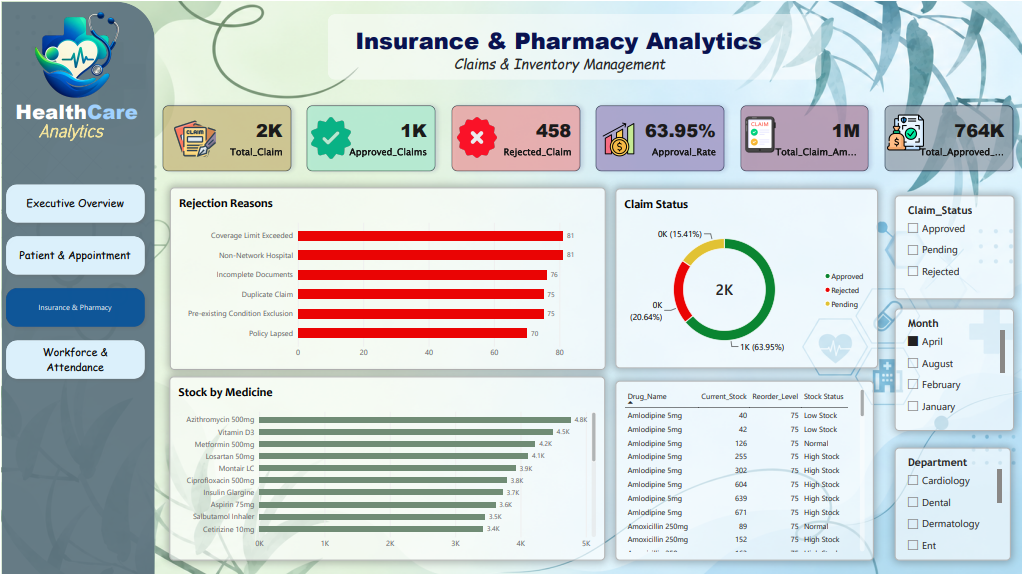

The dashboard page shown, as its layout file describes it:
{"tool":"powerbi","page":{"name":"Insurance & Pharmacy","canvas":[1920,1080],"ordinal":2},"visuals":[{"type":"shape","box":[614,22.7,929.7,123.8],"z":0},{"type":"cardVisual","fields":{"Data":["Insurance_Claims.Total_Claim","Insurance_Claims.Approved_Claims","Insurance_Claims.Rejected_Claim","Insurance_Claims.Approval_Rate","Insurance_Claims.Total_Claim_Amount","Insurance_Claims.Total_Approved_Amount"]},"box":[287.8,179.7,1632,154],"z":1000},{"type":"shape","box":[0,0,288,1080],"z":2000},{"type":"barChart","title":"Rejection Reasons","fields":{"Category":["Insurance_Claims.Rejection_Reason"],"Y":["Insurance_Claims.Rejected_Claim"]},"box":[316.7,350,820,343.3],"z":3000},{"type":"donutChart","title":"Claim Status","fields":{"Category":["Insurance_Claims.Claim_Status"],"Y":["Insurance_Claims.Total_Claim"]},"box":[1156,352,494,338],"z":4000},{"type":"textbox","box":[315,650,150,430],"z":5000},{"type":"textbox","box":[666,42,980,84],"z":6000},{"type":"slicer","fields":{"Values":["DateTable.Month"]},"box":[1682,578,224,230],"z":7000},{"type":"slicer","fields":{"Values":["Insurance_Claims.Claim_Status"]},"box":[1681.7,365,225,195],"z":8000},{"type":"textbox","box":[852,98,610,55],"z":9000},{"type":"barChart","title":"Stock by Medicine","fields":{"Category":["Pharmacy_Inventory.Drug_Name"],"Y":["Pharmacy_Inventory.Total_Stock"]},"box":[316,706,820,346],"z":10000},{"type":"image","box":[17.8,8.9,237.8,177.8],"z":11000},{"type":"pageNavigator","box":[0,315.6,277,410],"z":12000},{"type":"textbox","box":[70,223.8,148.9,62.2],"z":13000},{"type":"tableEx","fields":{"Values":["Pharmacy_Inventory.Drug_Name","Pharmacy_Inventory.Current_Stock","Pharmacy_Inventory.Reorder_Level","Pharmacy_Inventory.Stock Status"]},"box":[1156,714,486,338],"z":14000},{"type":"slicer","fields":{"Values":["Raw_Appointments.Department"]},"box":[1682,840,218,212],"z":15000},{"type":"textbox","box":[26.2,178.8,337.3,90.2],"z":16000},{"type":"image","box":[314,219.8,97.7,76.7],"z":17000},{"type":"image","box":[539,216.3,160.5,80.2],"z":18000},{"type":"image","box":[839,211,111.6,89],"z":19000},{"type":"image","box":[1123.3,226.7,75,64.5],"z":20000},{"type":"image","box":[1348.3,214.5,160.5,71.5],"z":21000},{"type":"image","box":[1664,212.8,75,68],"z":22000}]}

Visuals, with their boxes on the page's 1920x1080 design canvas (x1, y1, x2, y2). These are canvas units, not pixel positions in the 1022x574 screenshot, which may show the page scaled, cropped or inside an application window:
shape: x1=614, y1=23, x2=1544, y2=146
cardVisual - Insurance_Claims.Total_Claim x Insurance_Claims.Approved_Claims: x1=288, y1=180, x2=1920, y2=334
shape: x1=0, y1=0, x2=288, y2=1080
"Rejection Reasons" barChart: x1=317, y1=350, x2=1137, y2=693
"Claim Status" donutChart: x1=1156, y1=352, x2=1650, y2=690
textbox: x1=315, y1=650, x2=465, y2=1080
textbox: x1=666, y1=42, x2=1646, y2=126
slicer - DateTable.Month: x1=1682, y1=578, x2=1906, y2=808
slicer - Insurance_Claims.Claim_Status: x1=1682, y1=365, x2=1907, y2=560
textbox: x1=852, y1=98, x2=1462, y2=153
"Stock by Medicine" barChart: x1=316, y1=706, x2=1136, y2=1052
image: x1=18, y1=9, x2=256, y2=187
pageNavigator: x1=0, y1=316, x2=277, y2=726
textbox: x1=70, y1=224, x2=219, y2=286
tableEx - Pharmacy_Inventory.Drug_Name x Pharmacy_Inventory.Current_Stock: x1=1156, y1=714, x2=1642, y2=1052
slicer - Raw_Appointments.Department: x1=1682, y1=840, x2=1900, y2=1052
textbox: x1=26, y1=179, x2=364, y2=269
image: x1=314, y1=220, x2=412, y2=296
image: x1=539, y1=216, x2=700, y2=296
image: x1=839, y1=211, x2=951, y2=300
image: x1=1123, y1=227, x2=1198, y2=291
image: x1=1348, y1=214, x2=1509, y2=286
image: x1=1664, y1=213, x2=1739, y2=281
